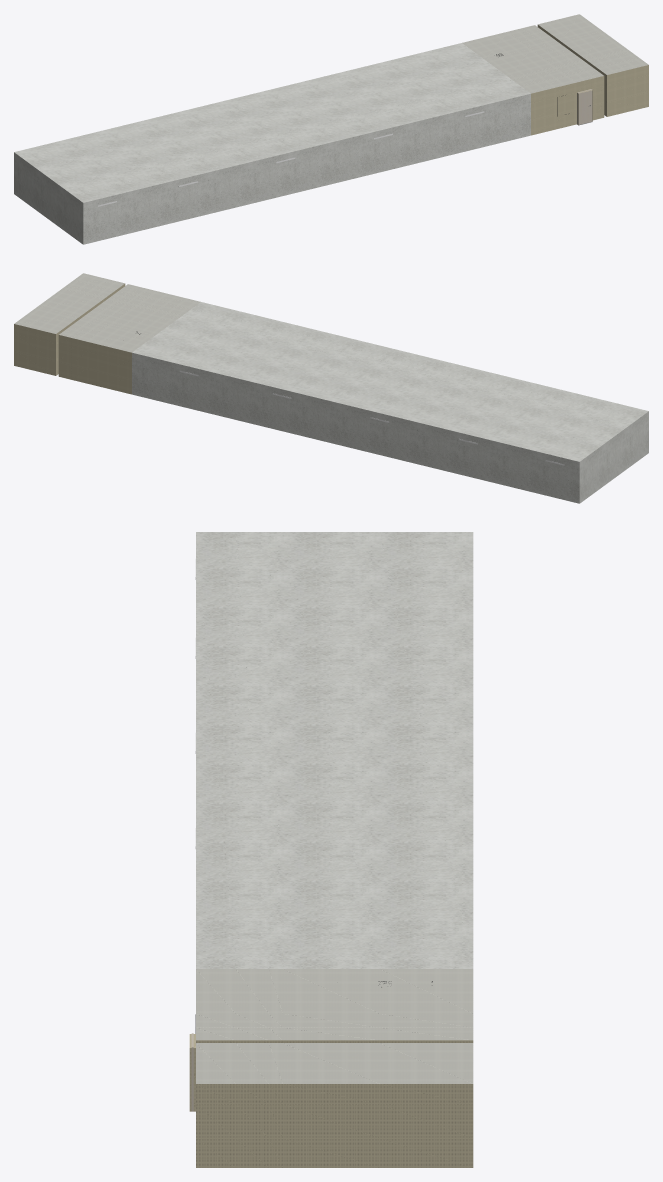
The picture shows the model from 3 angles, top to bottom: view 1: azimuth 30°, elevation 25°; view 2: azimuth 150°, elevation 25°; view 3: azimuth 270°, elevation 25°; orthographic projection. The views are drawn at different scales.
Parts seen in each view (by area): view 1: Range_44, Door02_15; view 2: Range_44; view 3: Range_44.
Part boxes in pixels (x1,y1,x2,y2): Range_44: (14, 14, 648, 244); Door02_15: (579, 91, 591, 123); Range_44: (14, 273, 648, 503); Range_44: (189, 532, 473, 1167).
Size of the model in its own units: 0.377 by 0.0267 by 0.0819.
26 materials, 21 textured.
